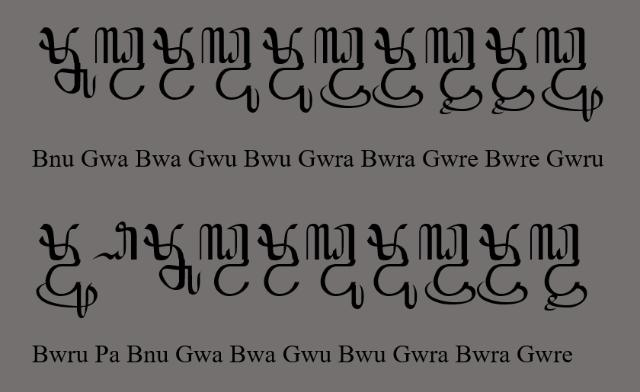Bnu: (143, 222, 201, 296), (38, 27, 96, 99)
Bw: (152, 26, 195, 100), (258, 223, 300, 297)
Bwr: (476, 223, 528, 306), (372, 27, 424, 109)
Bwre: (484, 27, 536, 116)
Bwru: (35, 223, 97, 319)
Bwu: (367, 223, 418, 310), (262, 26, 312, 112)
Gw: (94, 26, 146, 101), (198, 223, 250, 297)
Gwr: (314, 26, 372, 110), (418, 224, 477, 306)
Gwre: (528, 224, 588, 312), (425, 27, 483, 116)
Gwru: (536, 26, 604, 121)
Gwu: (200, 27, 260, 114), (306, 223, 364, 309)
_P: (92, 221, 138, 261)
